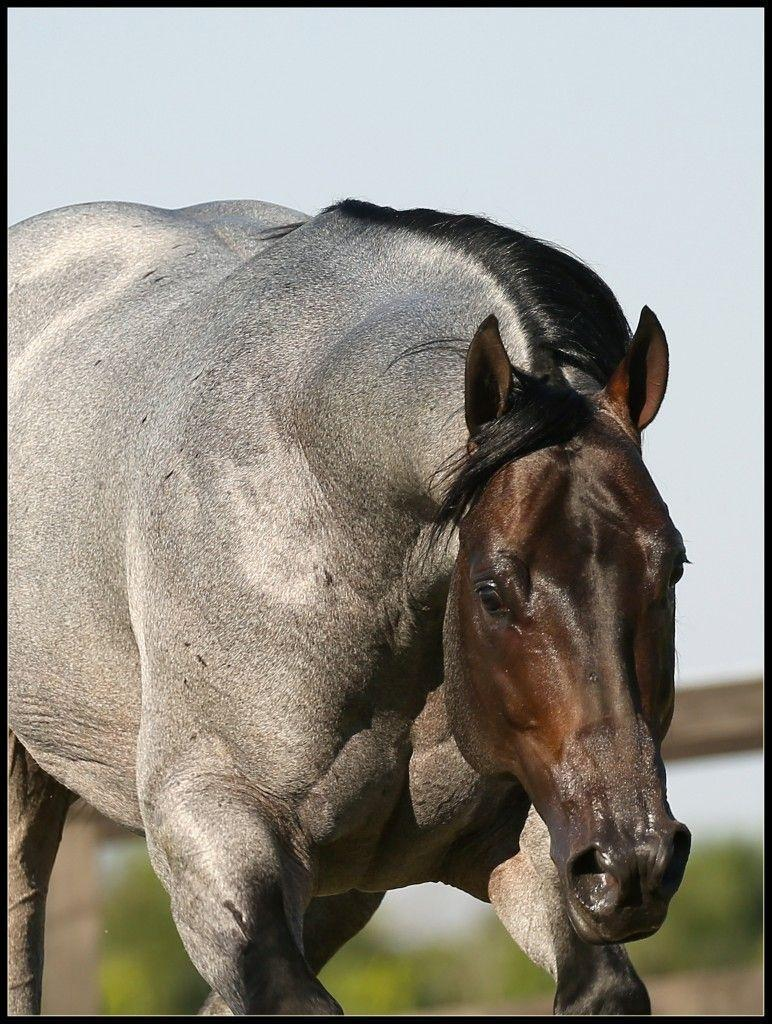horse: (2, 194, 691, 1018)
